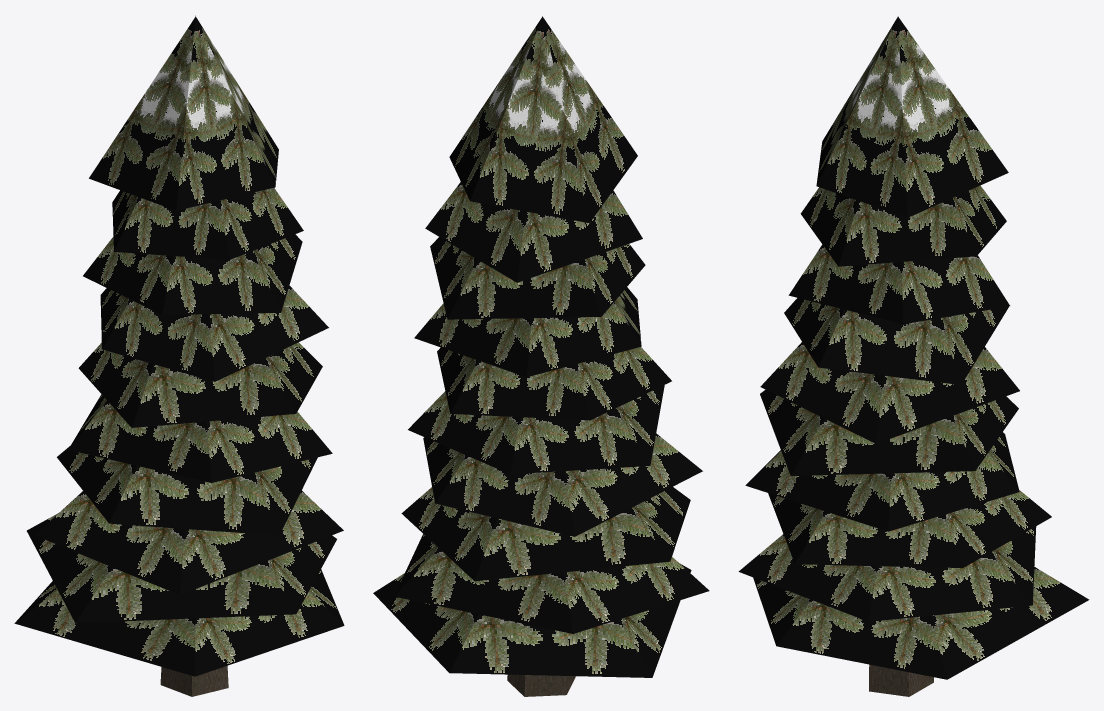
Rendered from tree1.glb.
3 renders of one model, left to right at view 1: azimuth 30°, elevation 25°; view 2: azimuth 150°, elevation 25°; view 3: azimuth 270°, elevation 25°, orthographic.
Visible parts, largest first — view 1: Bark; view 2: Bark; view 3: Bark.
Part boxes in pixels (x1=…): Bark: x1=14, y1=15, x2=344, y2=696; Bark: x1=373, y1=16, x2=709, y2=696; Bark: x1=738, y1=16, x2=1089, y2=696.
Bounding box in the file's own units: 5.45 × 12 × 5.71.
Materials: 2 (2 with a texture image).
